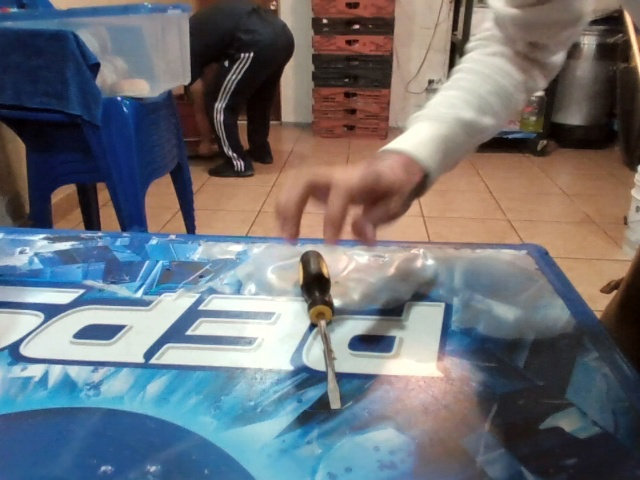destornillador: (297, 249, 343, 411)
